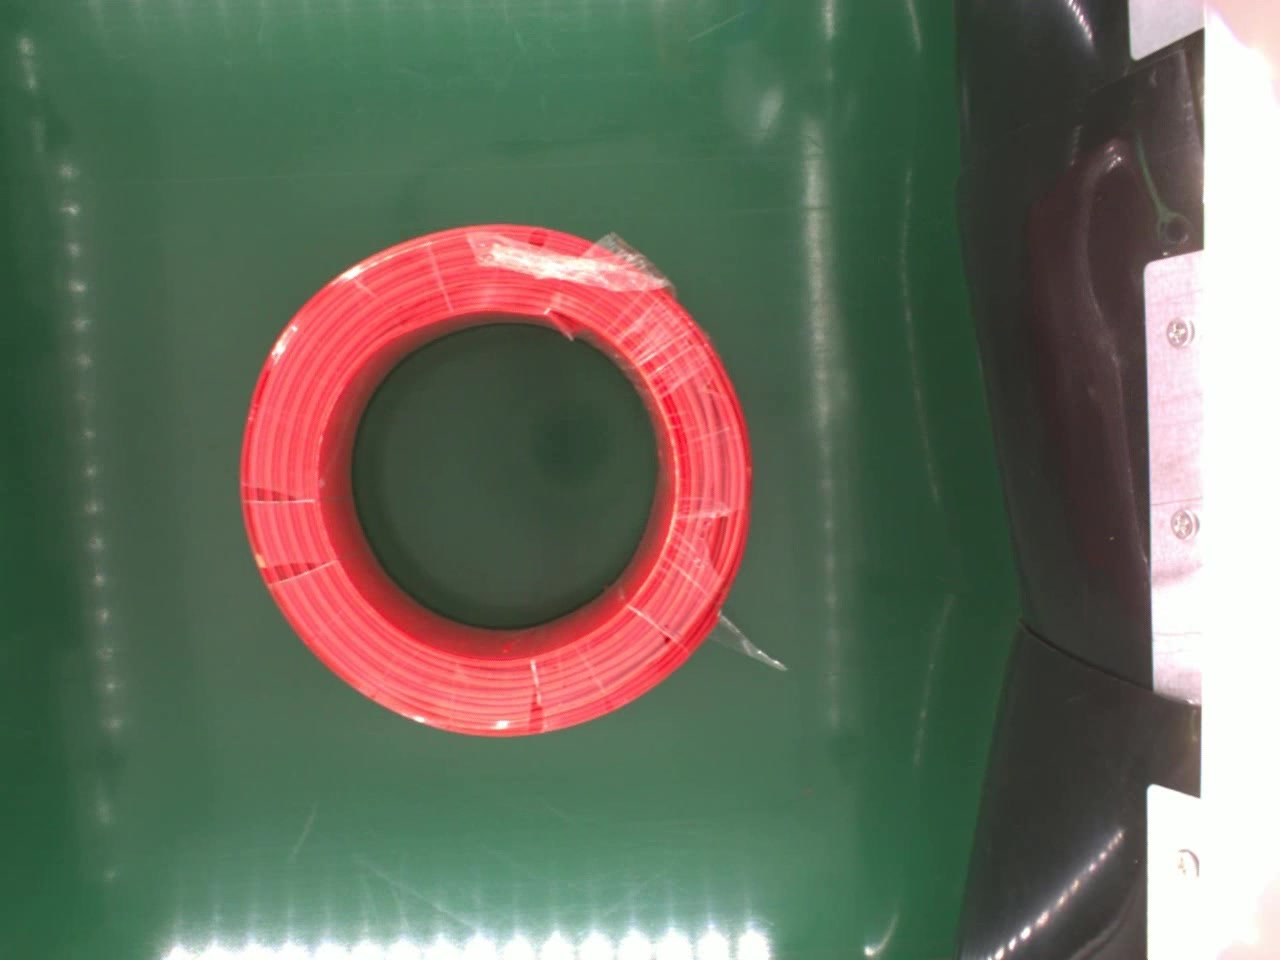red: (234, 219, 763, 742)
